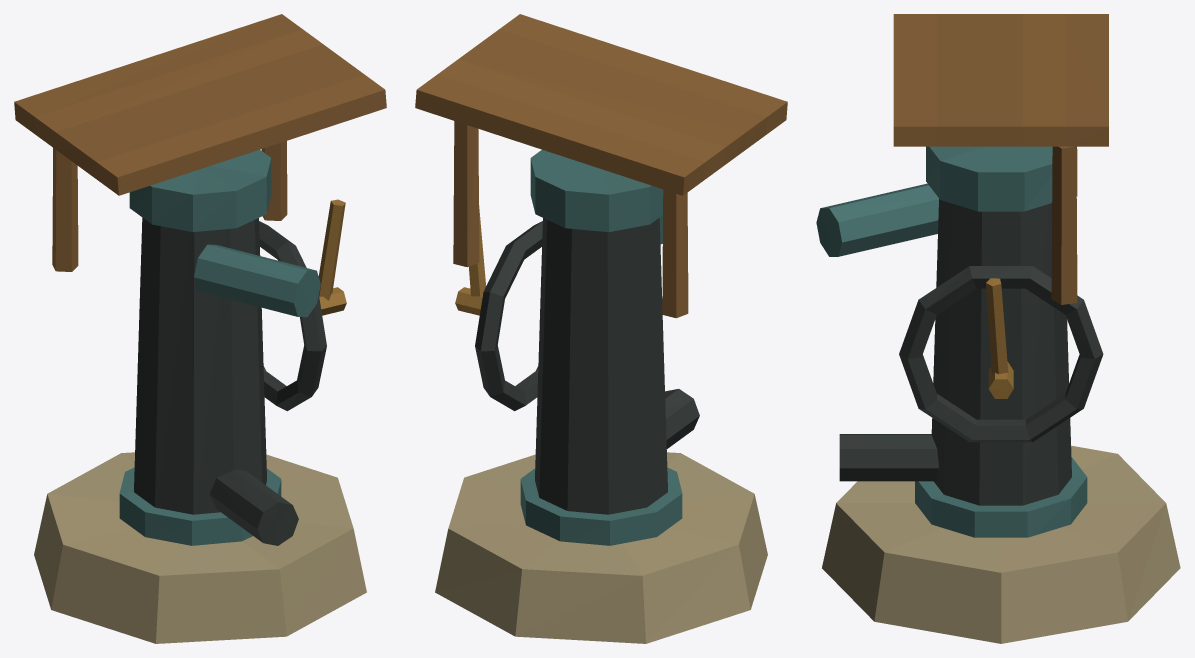
File: Oasis-Pump.glb
3 renders of one model, left to right at view 1: azimuth 30°, elevation 25°; view 2: azimuth 150°, elevation 25°; view 3: azimuth 270°, elevation 25°, orthographic. The views are drawn at different scales.
Visible parts, largest first — view 1: wind-pump-static-oasis-pump-canopy-timber-mat, wind-pump-static-oasis-pump-dark-iron-mat, wind-pump-static-oasis-pump-sandstone-mat, wind-pump-static-oasis-pump-muted-teal-mat, wind-pump-static-oasis-pump-brass-mat; view 2: wind-pump-static-oasis-pump-canopy-timber-mat, wind-pump-static-oasis-pump-dark-iron-mat, wind-pump-static-oasis-pump-sandstone-mat, wind-pump-static-oasis-pump-muted-teal-mat, wind-pump-static-oasis-pump-brass-mat; view 3: wind-pump-static-oasis-pump-dark-iron-mat, wind-pump-static-oasis-pump-sandstone-mat, wind-pump-static-oasis-pump-canopy-timber-mat, wind-pump-static-oasis-pump-muted-teal-mat, wind-pump-static-oasis-pump-brass-mat.
Boxes of the visible parts, bbox=[...] form: wind-pump-static-oasis-pump-canopy-timber-mat: bbox=[14, 14, 386, 271]; wind-pump-static-oasis-pump-dark-iron-mat: bbox=[134, 217, 326, 545]; wind-pump-static-oasis-pump-sandstone-mat: bbox=[34, 452, 366, 643]; wind-pump-static-oasis-pump-muted-teal-mat: bbox=[119, 149, 320, 545]; wind-pump-static-oasis-pump-brass-mat: bbox=[318, 199, 346, 315]; wind-pump-static-oasis-pump-canopy-timber-mat: bbox=[415, 14, 787, 318]; wind-pump-static-oasis-pump-dark-iron-mat: bbox=[475, 217, 699, 514]; wind-pump-static-oasis-pump-sandstone-mat: bbox=[435, 452, 767, 643]; wind-pump-static-oasis-pump-muted-teal-mat: bbox=[520, 149, 682, 545]; wind-pump-static-oasis-pump-brass-mat: bbox=[455, 205, 485, 315]; wind-pump-static-oasis-pump-dark-iron-mat: bbox=[839, 199, 1103, 505]; wind-pump-static-oasis-pump-sandstone-mat: bbox=[822, 445, 1180, 643]; wind-pump-static-oasis-pump-canopy-timber-mat: bbox=[893, 14, 1108, 304]; wind-pump-static-oasis-pump-muted-teal-mat: bbox=[816, 146, 1087, 537]; wind-pump-static-oasis-pump-brass-mat: bbox=[986, 278, 1013, 398].
Bounding box in the file's own units: 1 × 1.57 × 1.02.
